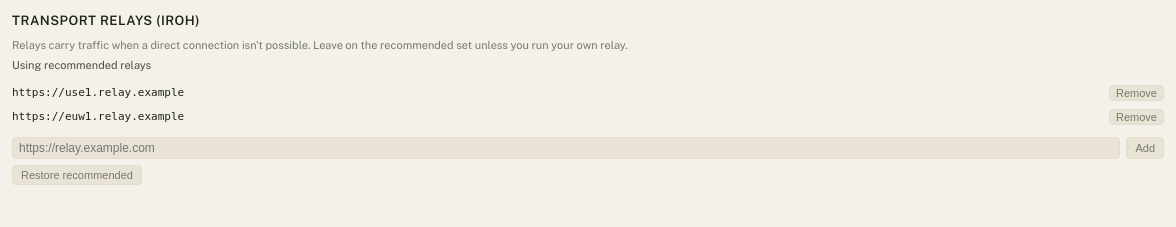
IrohRelaySettings › surfaces a mutation rejection in a role="alert" error region
In the field with test id "iroh-relay-url-input": (566, 148) x1=12 y1=137 x2=1120 y2=159, type "not-a-url"
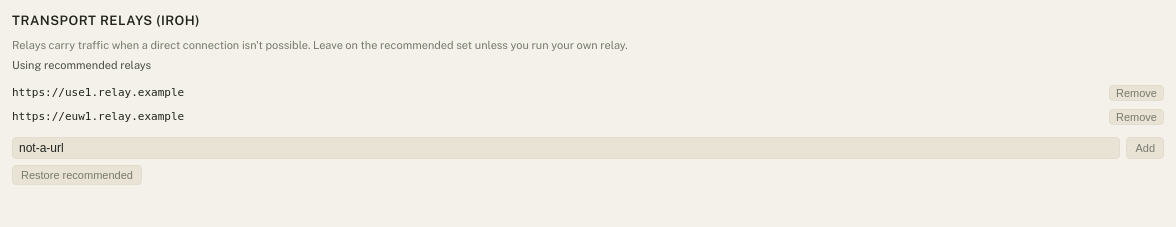
Click the button with test id "iroh-relay-add-button": (1145, 148) x1=1126 y1=137 x2=1164 y2=159
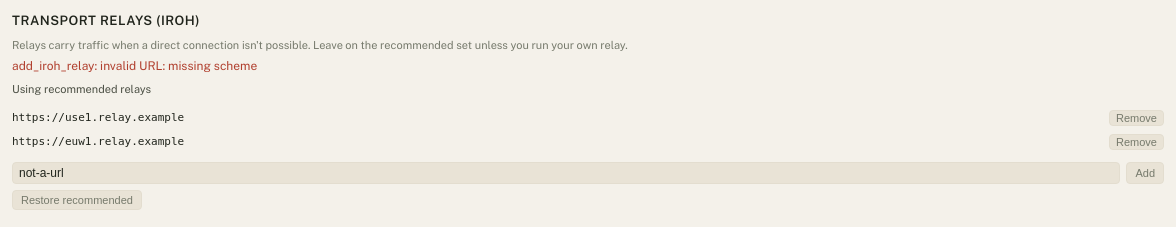
Expected: the number of list items with test id "iroh-relay-row" is 2, x1=12 y1=106 x2=1164 y2=130; x1=12 y1=130 x2=1164 y2=154
Result: the message shows "invalid URL: missing scheme" at x1=12 y1=59 x2=257 y2=73
